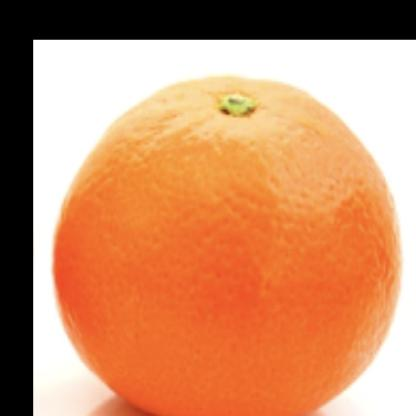fresh: (50, 78, 399, 416)
